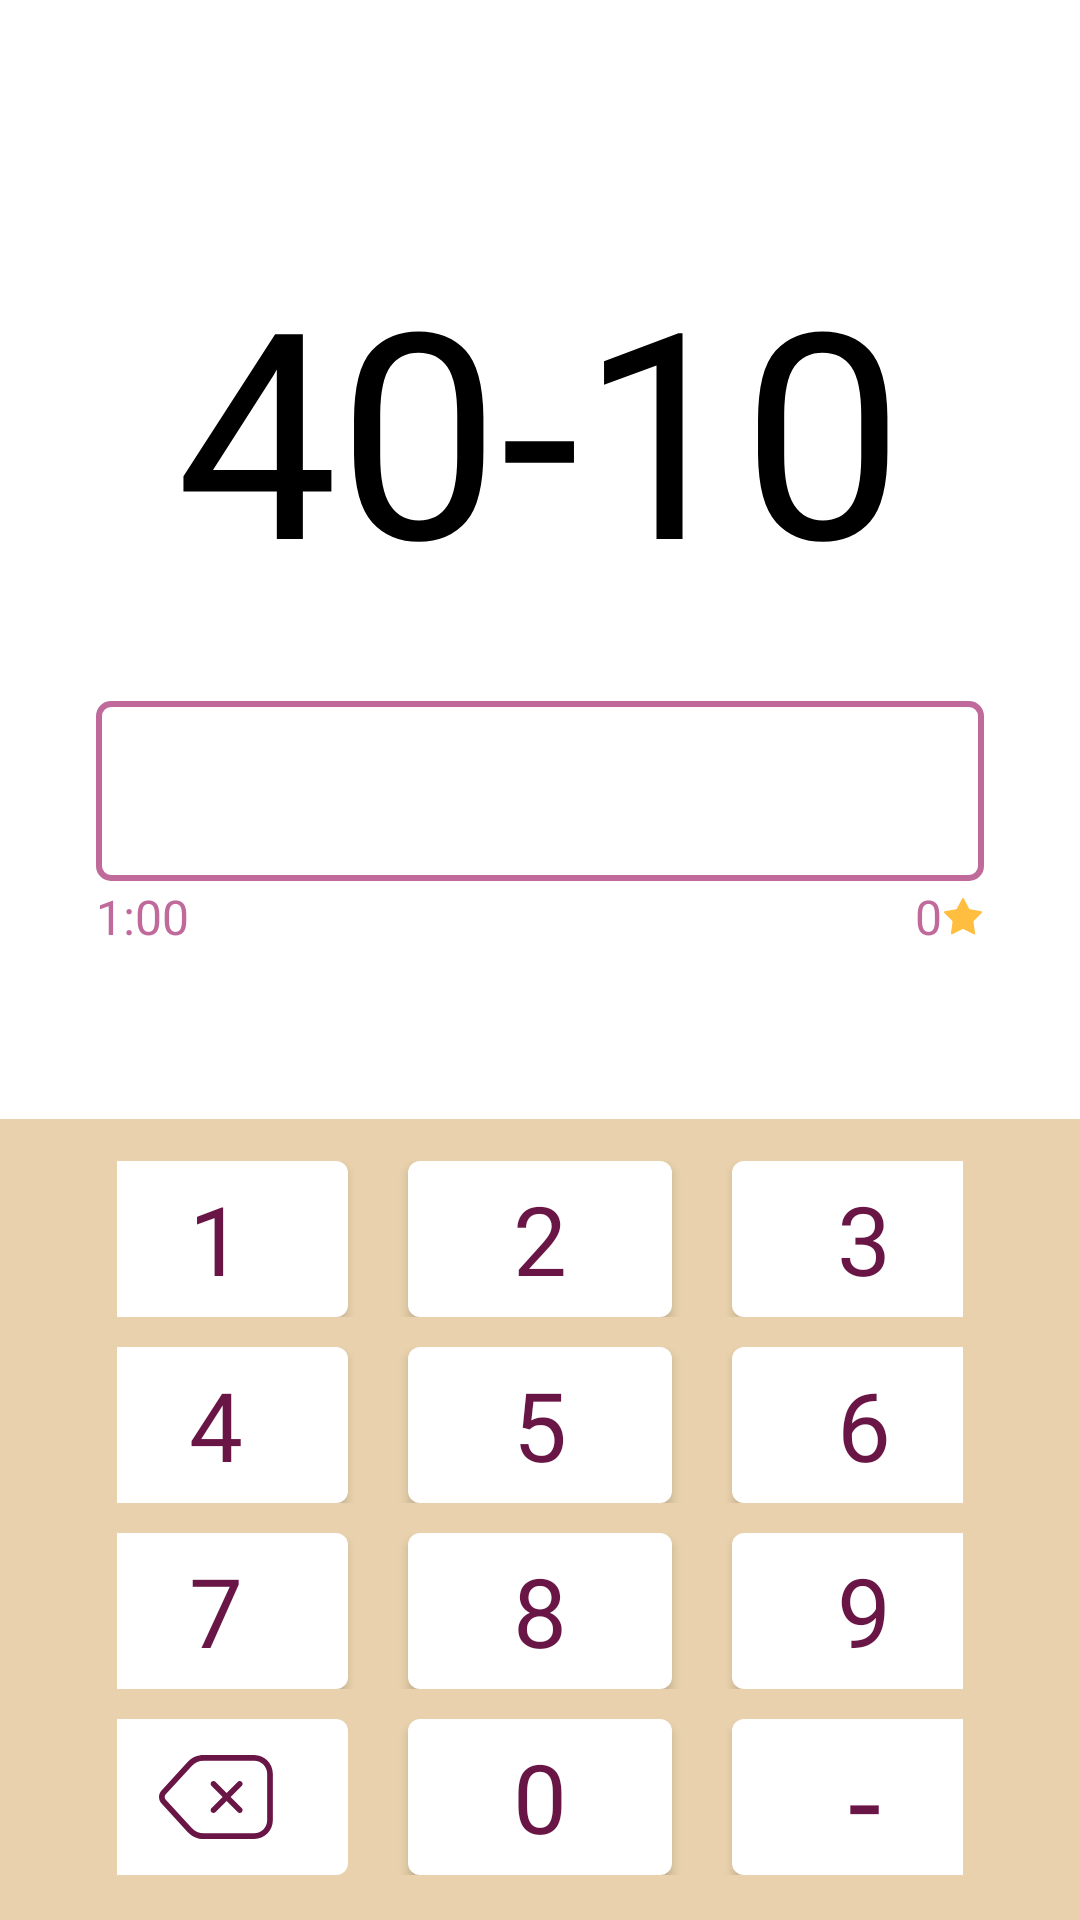

Icon click points for this 1080x1920 phone screenshot, format point (x, y):
star: point (963, 916)
